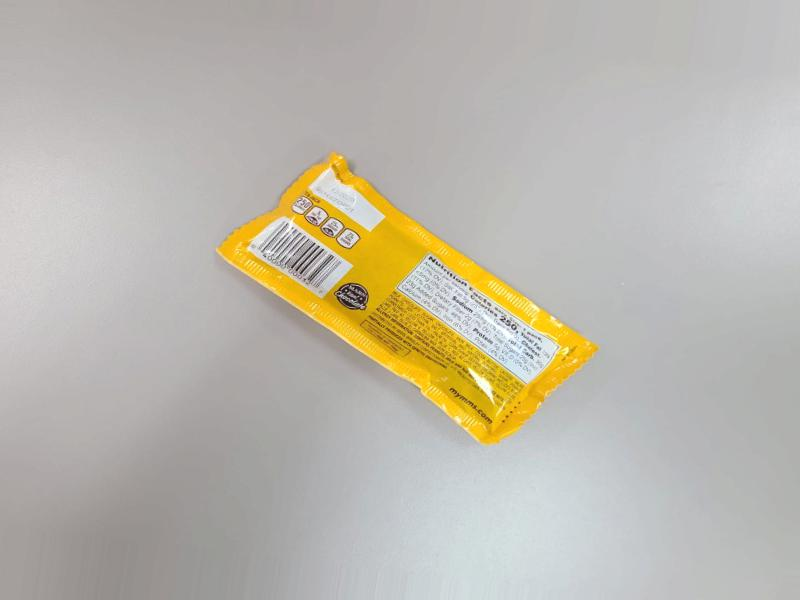m&m: (249, 144, 628, 442)
